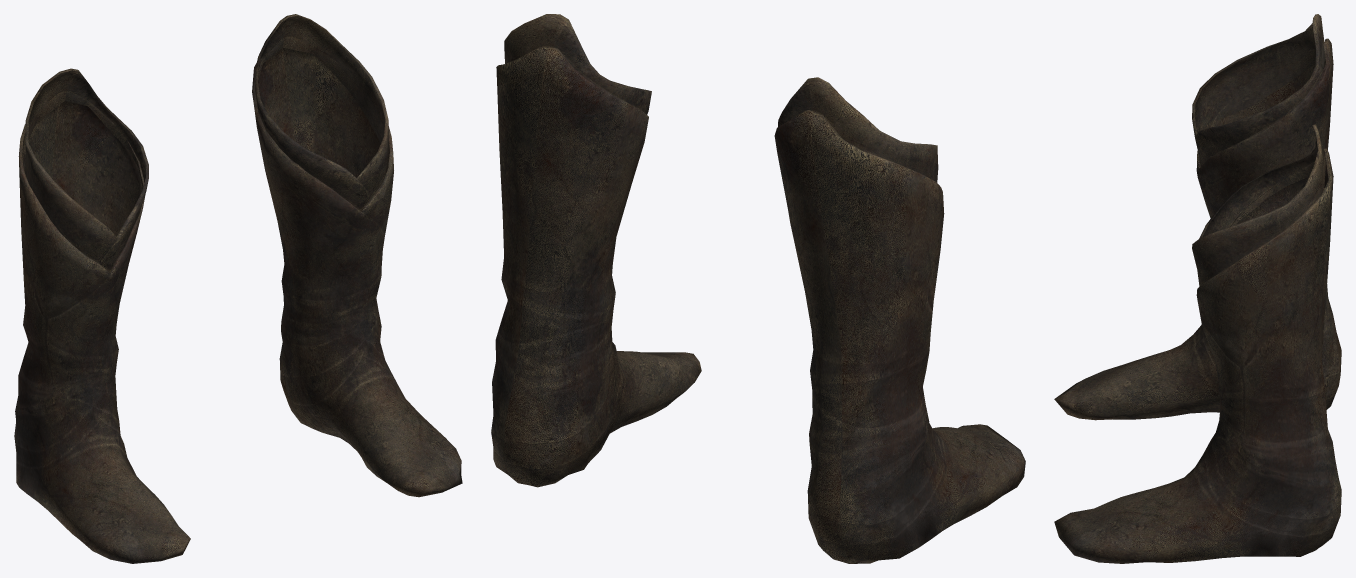
File: legolas_boots.fbx
The picture shows the model from 3 angles, left to right: view 1: azimuth 30°, elevation 25°; view 2: azimuth 150°, elevation 25°; view 3: azimuth 270°, elevation 25°; orthographic projection. The views are drawn at different scales.
Parts seen in each view (by area): view 1: legolas_boots; view 2: legolas_boots; view 3: legolas_boots.
Part boxes in pixels (x1,y1,x2,y2): legolas_boots: (14,14,462,563); legolas_boots: (491,14,1025,563); legolas_boots: (1054,14,1341,563).
Size of the model in its own units: 0.4477 by 0.3 by 0.469.
Materials: 1 (1 with a texture image).
